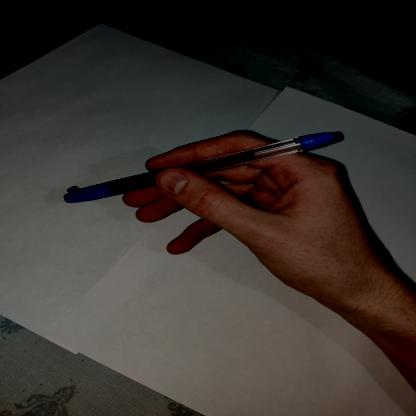Pen: (52, 116, 339, 212)
